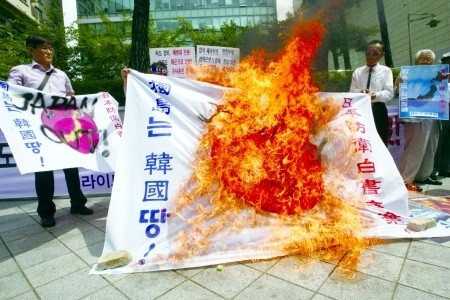fire: (175, 11, 374, 271)
